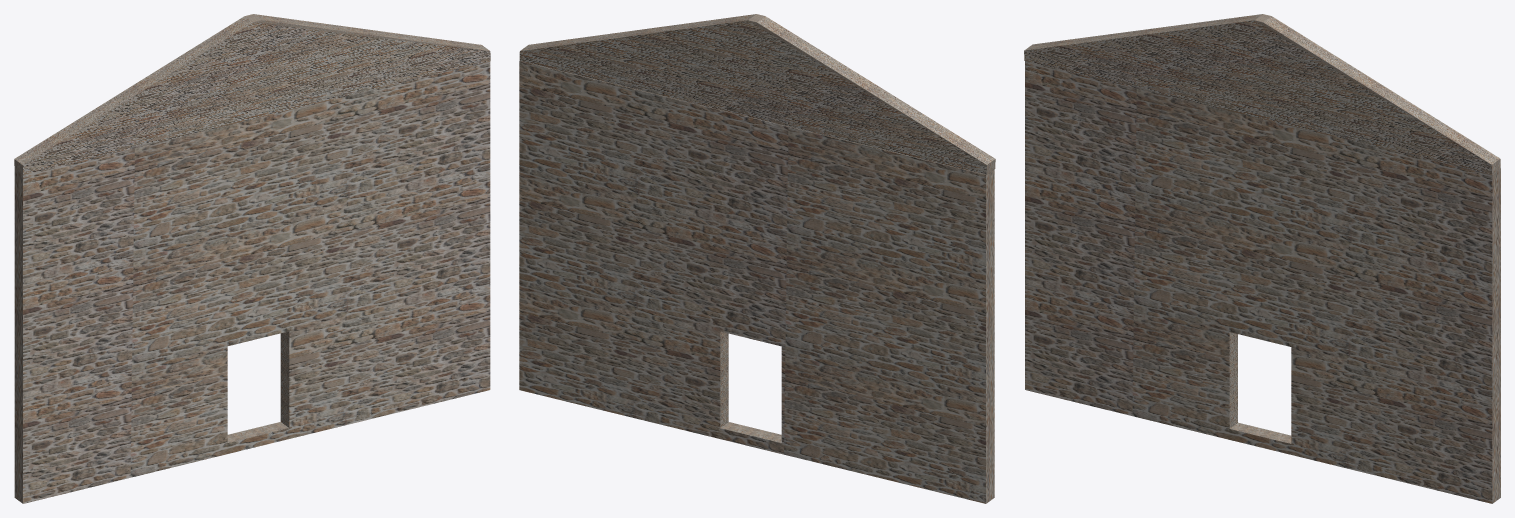
File: FaçanaFrontal.fbx
The picture shows the model from 3 angles, left to right: view 1: azimuth 30°, elevation 25°; view 2: azimuth 150°, elevation 25°; view 3: azimuth 330°, elevation 25°; orthographic projection.
Visible parts, largest first — view 1: FaçanaEntrada.001; view 2: FaçanaEntrada.001; view 3: FaçanaEntrada.001.
Boxes of the visible parts, <box> form: FaçanaEntrada.001: <box>14,14,490,503</box>; FaçanaEntrada.001: <box>519,14,995,503</box>; FaçanaEntrada.001: <box>1024,14,1500,503</box>.
Size of the model in its own units: 1517 by 1319 by 50.
